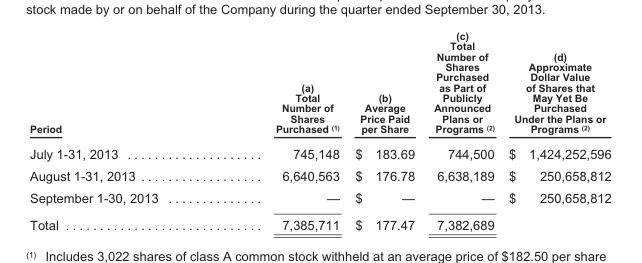table: (29, 29, 610, 231)
table column: (29, 29, 216, 231), (216, 29, 346, 231), (500, 29, 610, 231), (346, 29, 423, 231), (423, 29, 500, 231)
table column header: (29, 29, 610, 140)
table row: (29, 29, 610, 140), (29, 140, 610, 164), (29, 186, 610, 210), (29, 164, 610, 186), (29, 210, 610, 231)
